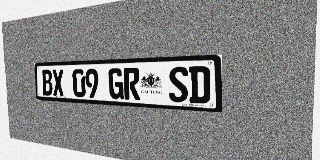0: (72, 69, 86, 97)
9: (85, 68, 99, 98)
B: (41, 70, 53, 96)
D: (189, 66, 210, 104)
G: (108, 68, 124, 99)
R: (123, 68, 140, 100)
S: (169, 66, 188, 103)
X: (52, 69, 64, 96)
